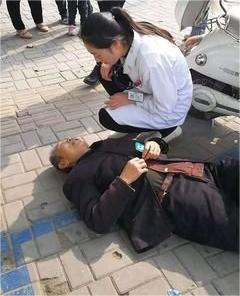bending: (77, 4, 198, 140)
down: (45, 135, 240, 248)
